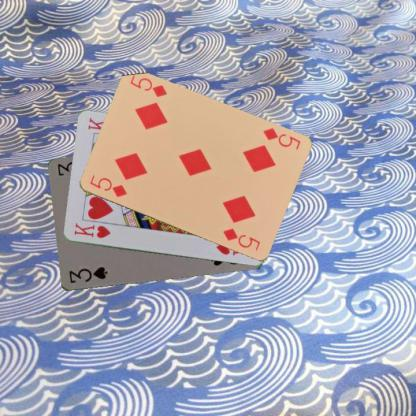3s: (66, 264, 108, 284)
5d: (86, 172, 127, 199), (260, 126, 302, 152)
Kh: (71, 220, 112, 240)
